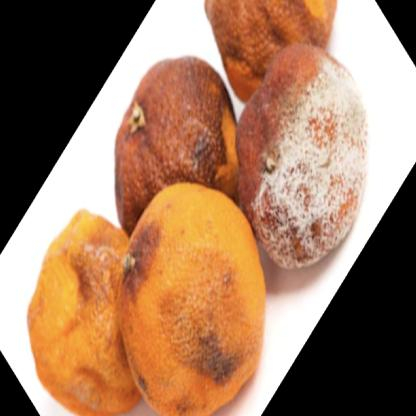rotten: (29, 1, 369, 416)
